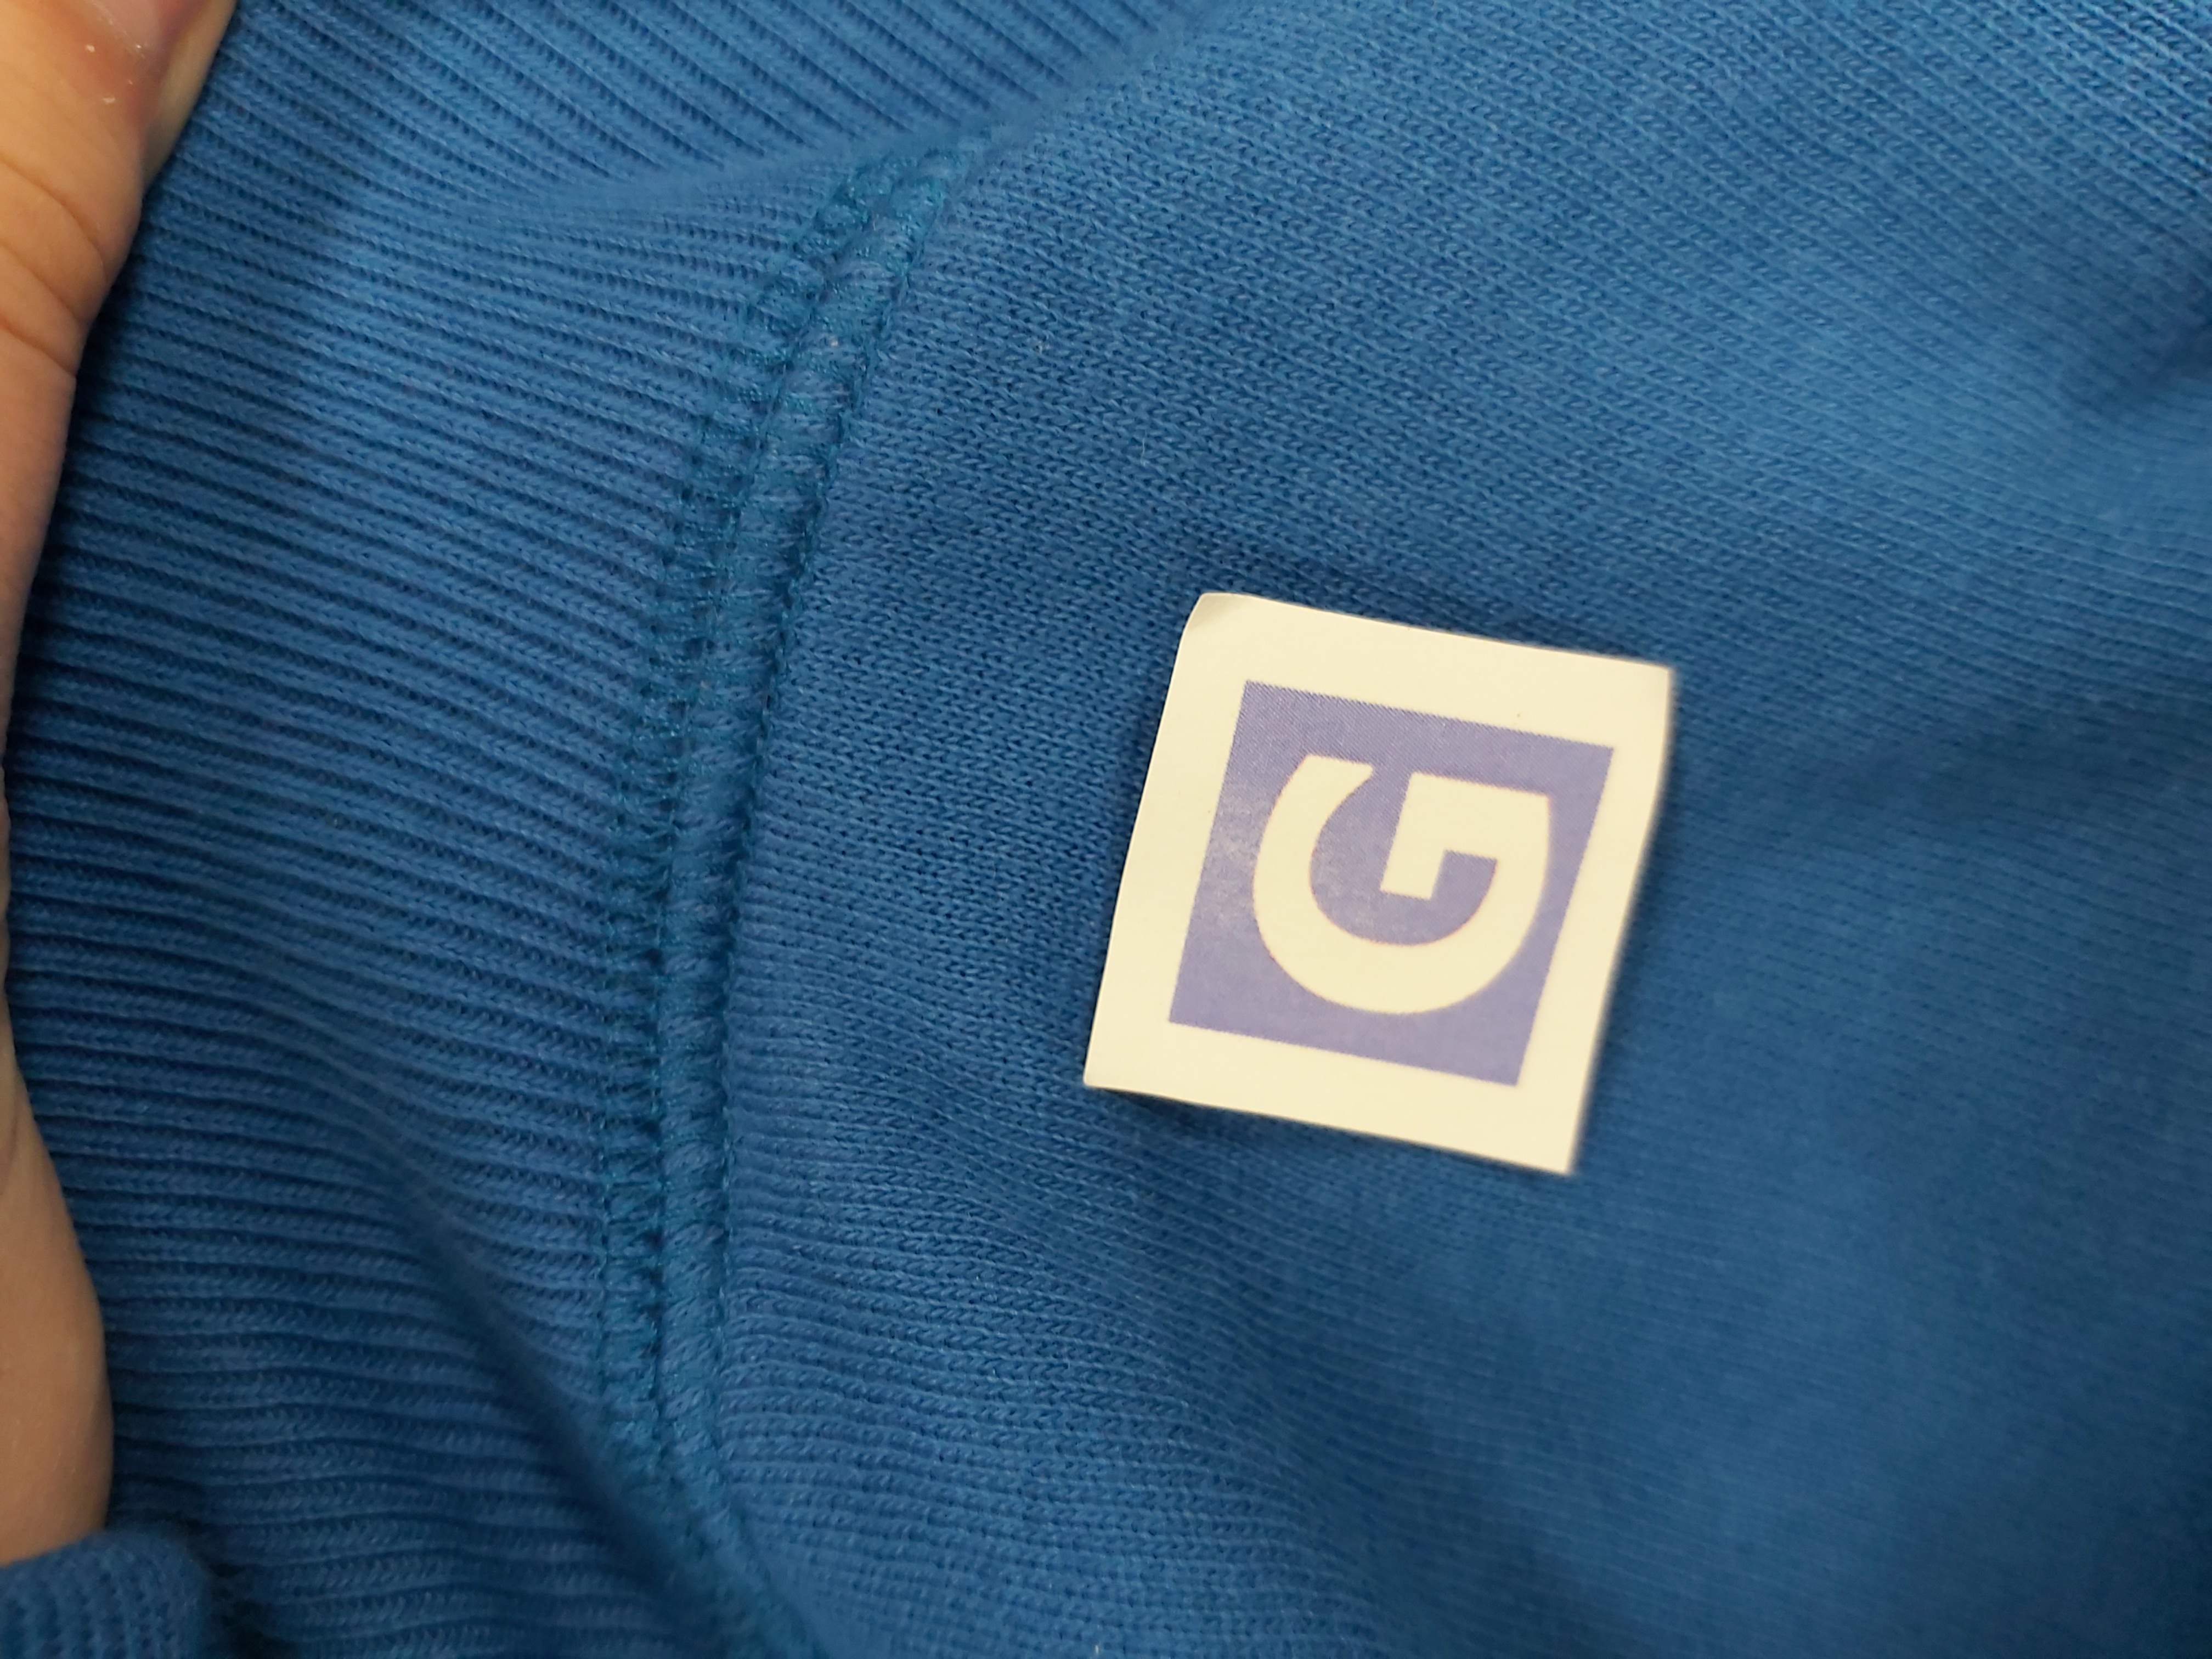marker: (1083, 589, 1669, 1192)
